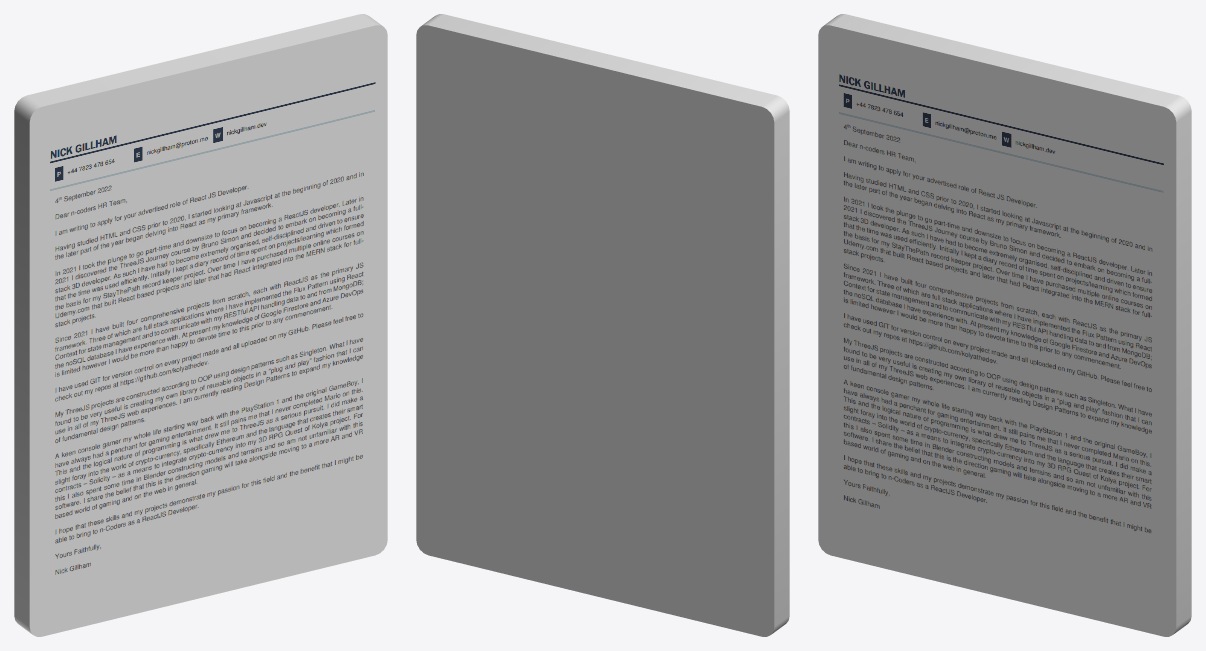
File: nickCover.glb
3 views of the same model, side by side, from view 1: azimuth 30°, elevation 25°; view 2: azimuth 150°, elevation 25°; view 3: azimuth 330°, elevation 25° (orthographic).
Parts seen in each view (by area): view 1: nick; view 2: nick; view 3: nick.
Boxes of the visible parts, box(x1,y1,x2,y2) form: nick: box(14, 14, 387, 636); nick: box(416, 14, 789, 636); nick: box(818, 14, 1191, 636).
Bounding box in the file's own units: 2.1 × 2.97 × 0.1566.
2 materials, 1 textured.
